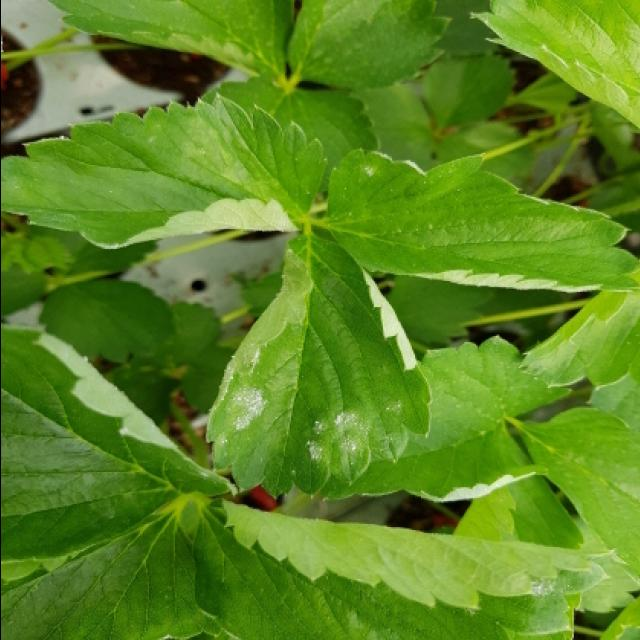Powdery Mildew Leaf: (204, 230, 431, 501), (2, 322, 236, 583), (191, 498, 616, 638), (2, 90, 326, 249), (324, 148, 640, 293), (318, 333, 573, 503)
